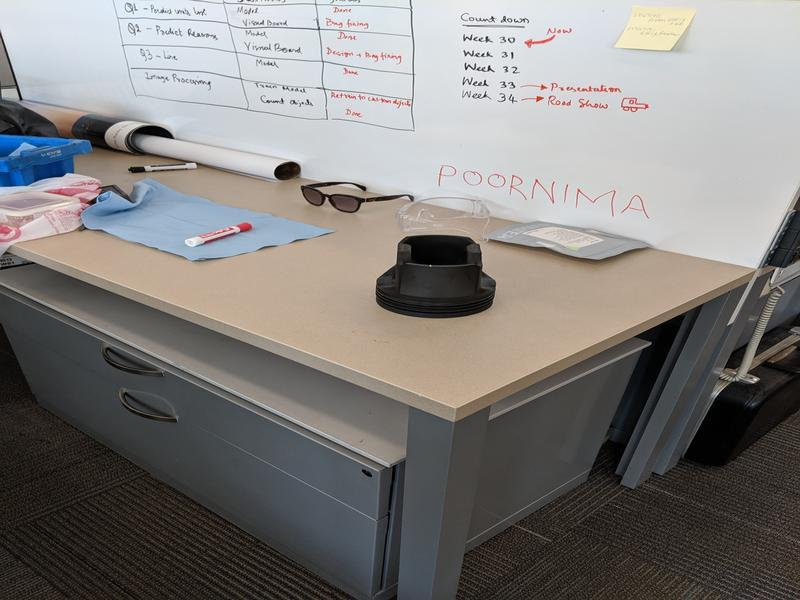piston: (371, 230, 500, 326)
